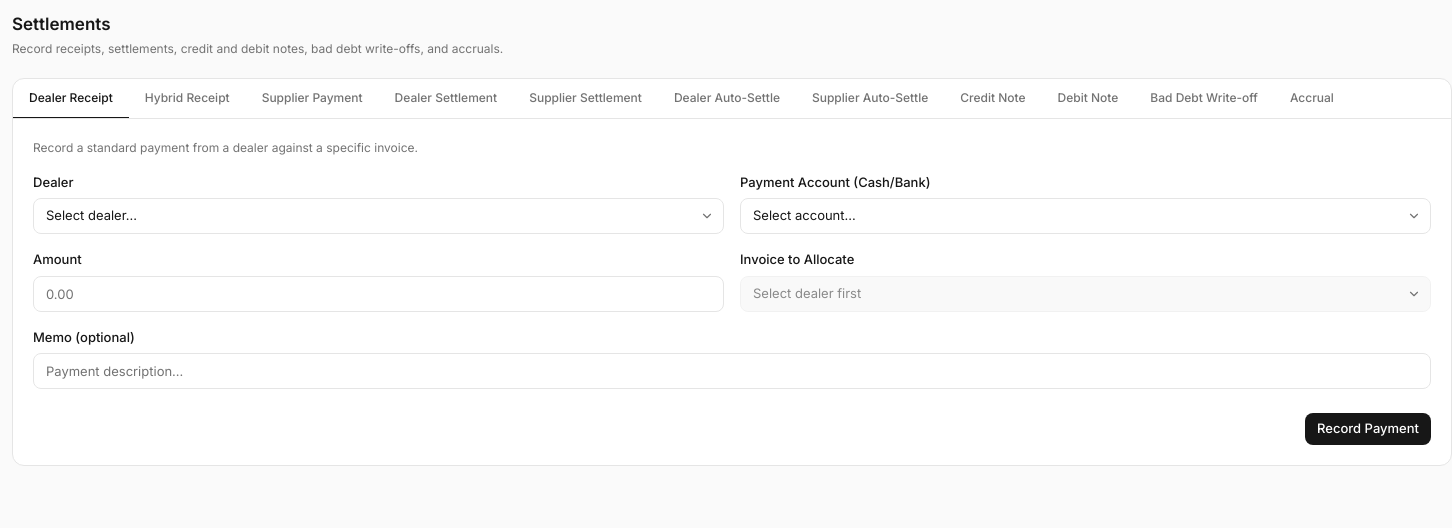
Test: SettlementsPage › dealer receipt blocks submit when required fields are empty and shows error messages
The image size is (1452, 528).
// Dealer Receipt is the default tab — attempt submit with empty fields
Click the button "Record Payment": (1368, 429) left=1305, top=413, right=1431, bottom=445
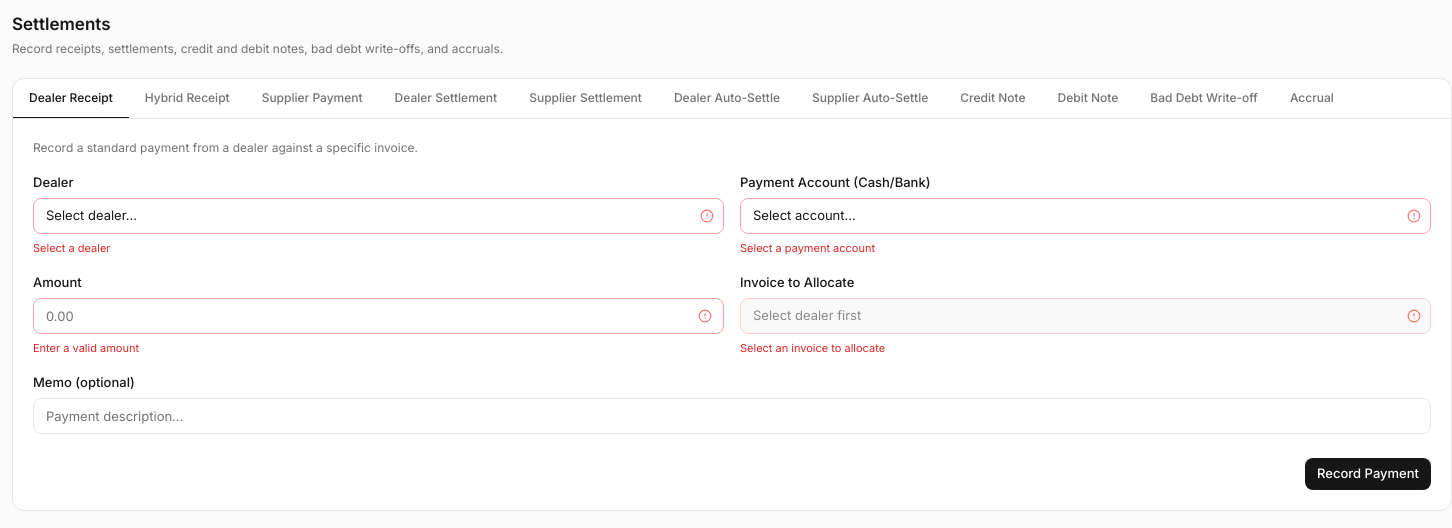
Result: the text "Select a dealer" is shown at left=33, top=241, right=110, bottom=255
Result: the text "Select a payment account" is shown at left=740, top=241, right=875, bottom=255
Result: the text "Enter a valid amount" is shown at left=33, top=341, right=139, bottom=355
